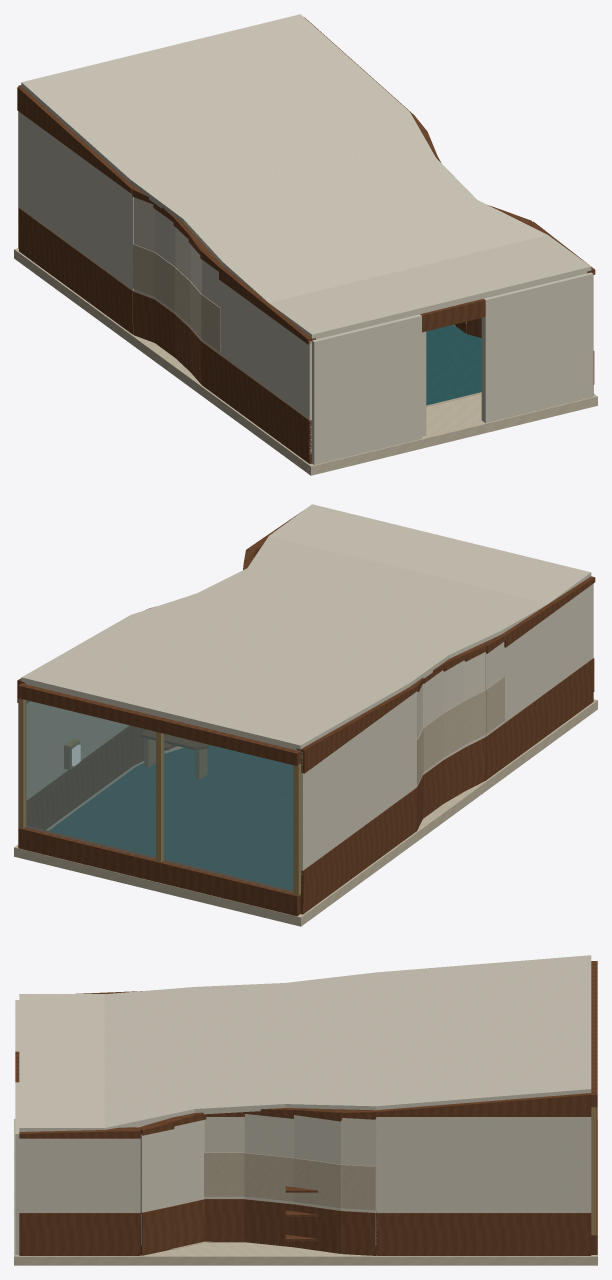
The model's file is shell.glb.
The picture shows the model from 3 angles, top to bottom: view 1: azimuth 30°, elevation 25°; view 2: azimuth 150°, elevation 25°; view 3: azimuth 270°, elevation 25°; orthographic projection.
Parts seen in each view (by area): view 1: SUI_Runtime_ivory_enamel, SUI_Runtime_warm_walnut, SUI_Runtime_warm_stone, SUI_Runtime_oatmeal_weave, SUI_Runtime_teal_weave; view 2: SUI_Runtime_ivory_enamel, SUI_Runtime_warm_walnut, SUI_Runtime_SuiteHospitalityGlass, SUI_Runtime_teal_weave, SUI_Runtime_warm_stone, SUI_Runtime_oatmeal_weave, SUI_Runtime_champagne_metal; view 3: SUI_Runtime_ivory_enamel, SUI_Runtime_warm_walnut, SUI_Runtime_warm_stone, SUI_Runtime_oatmeal_weave, SUI_Runtime_champagne_metal.
Boxes of the visible parts, bbox=[...] form: SUI_Runtime_ivory_enamel: bbox=[19, 14, 593, 464]; SUI_Runtime_warm_walnut: bbox=[17, 17, 595, 463]; SUI_Runtime_warm_stone: bbox=[14, 248, 597, 475]; SUI_Runtime_oatmeal_weave: bbox=[133, 244, 481, 406]; SUI_Runtime_teal_weave: bbox=[426, 325, 481, 405]; SUI_Runtime_ivory_enamel: bbox=[21, 504, 593, 885]; SUI_Runtime_warm_walnut: bbox=[17, 511, 595, 916]; SUI_Runtime_SuiteHospitalityGlass: bbox=[25, 700, 293, 892]; SUI_Runtime_teal_weave: bbox=[49, 745, 292, 889]; SUI_Runtime_warm_stone: bbox=[14, 699, 597, 926]; SUI_Runtime_oatmeal_weave: bbox=[46, 676, 504, 830]; SUI_Runtime_champagne_metal: bbox=[18, 698, 300, 895]; SUI_Runtime_ivory_enamel: bbox=[15, 955, 591, 1254]; SUI_Runtime_warm_walnut: bbox=[15, 961, 597, 1255]; SUI_Runtime_warm_stone: bbox=[14, 1119, 597, 1265]; SUI_Runtime_oatmeal_weave: bbox=[170, 1152, 375, 1249]; SUI_Runtime_champagne_metal: bbox=[591, 1107, 596, 1235].
Bounding box in the file's own units: 7.2 × 4.26 × 12.9.
Materials: 8 (6 with a texture image).
